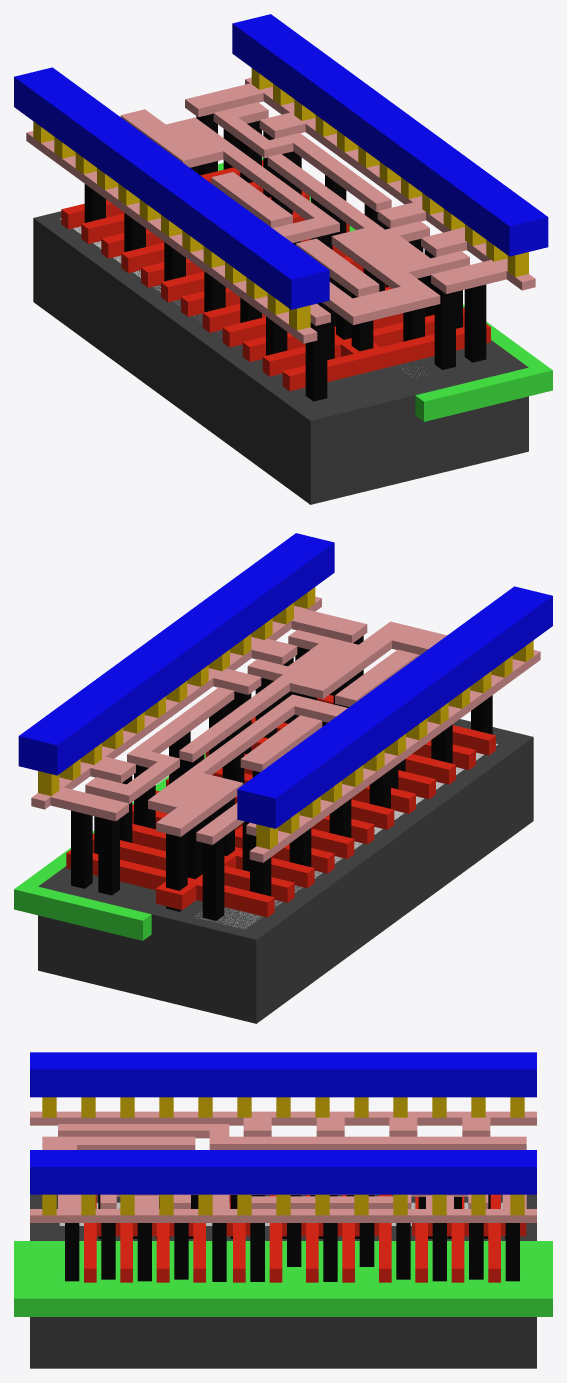
File: sky130_fd_sc_hd__o21ai_4.obj
3 views of the same model, one above another, from view 1: azimuth 30°, elevation 25°; view 2: azimuth 150°, elevation 25°; view 3: azimuth 270°, elevation 25° (orthographic). The views are drawn at different scales.
Visible parts, largest first — view 1: subs, metal1, li, poly, licon, mcon, nwell; view 2: subs, metal1, li, licon, poly, mcon, nwell, diff; view 3: metal1, subs, nwell, li, licon, poly, mcon.
Boxes of the visible parts, bbox=[...] form: subs: bbox=[33, 211, 528, 504]; metal1: bbox=[14, 14, 548, 309]; li: bbox=[26, 77, 535, 343]; poly: bbox=[61, 160, 490, 391]; licon: bbox=[84, 113, 486, 401]; mcon: bbox=[33, 68, 528, 330]; nwell: bbox=[218, 157, 552, 421]; subs: bbox=[38, 719, 533, 1023]; metal1: bbox=[18, 533, 552, 828]; li: bbox=[31, 596, 540, 862]; licon: bbox=[71, 635, 492, 920]; poly: bbox=[66, 695, 495, 917]; mcon: bbox=[38, 587, 533, 849]; nwell: bbox=[14, 753, 205, 940]; diff: bbox=[196, 743, 498, 928]; metal1: bbox=[30, 1052, 536, 1194]; subs: bbox=[30, 1194, 536, 1368]; nwell: bbox=[14, 1241, 552, 1316]; li: bbox=[30, 1111, 536, 1222]; licon: bbox=[65, 1194, 519, 1281]; poly: bbox=[84, 1194, 526, 1282]; mcon: bbox=[42, 1097, 524, 1215].
Size of the model in its own units: 3.2 by 2.74 by 6.36.
